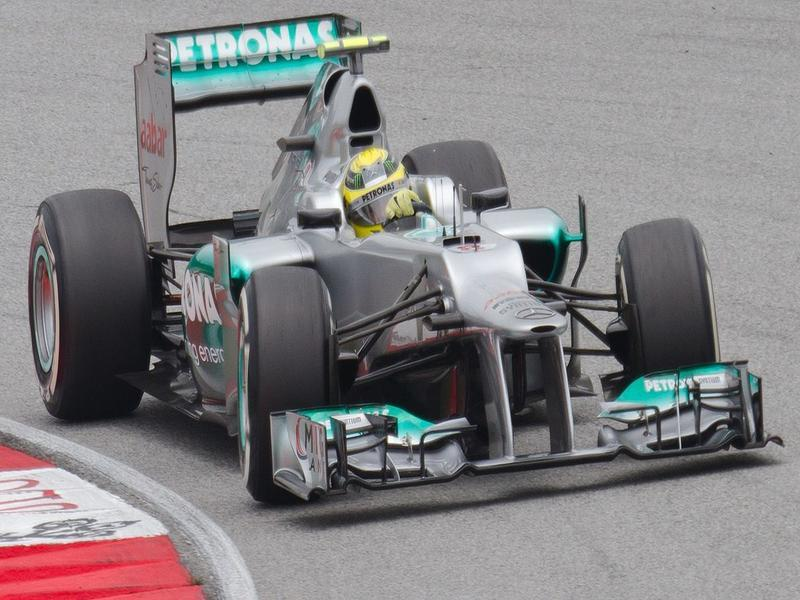racecar: (22, 18, 792, 509)
